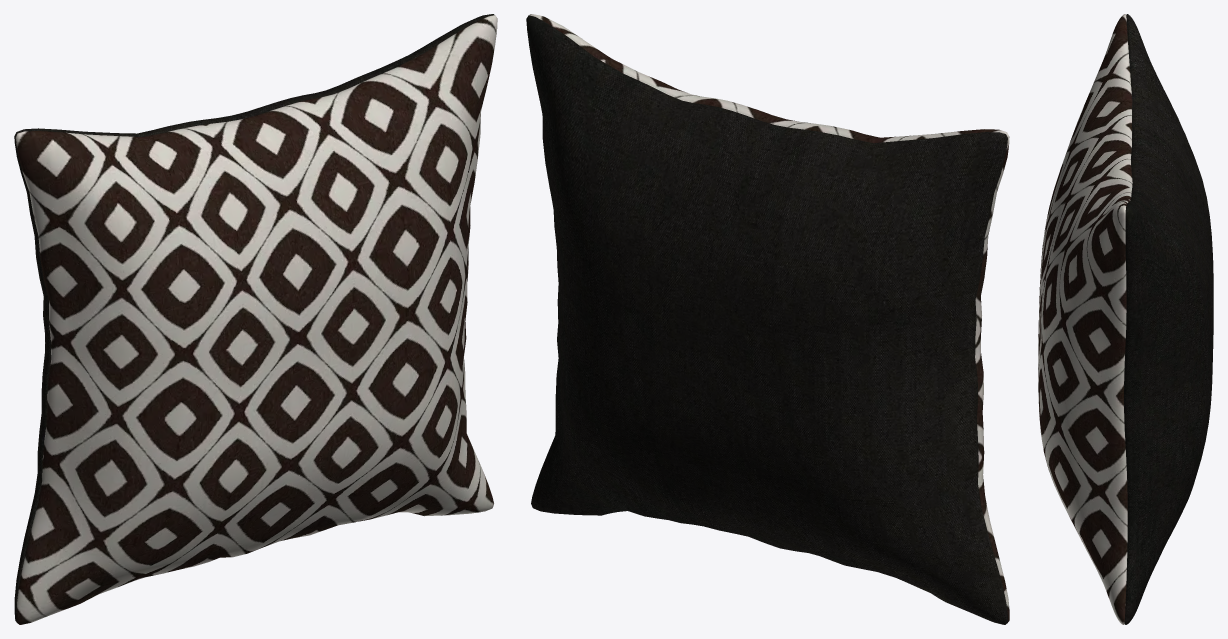
The picture shows the model from 3 angles, left to right: view 1: azimuth 30°, elevation 25°; view 2: azimuth 150°, elevation 25°; view 3: azimuth 270°, elevation 25°; orthographic projection. The views are drawn at different scales.
Parts seen in each view (by area): view 1: RootNode; view 2: RootNode; view 3: RootNode.
Boxes of the visible parts, x1,y1,x2,y2 form: RootNode: (14, 14, 497, 624); RootNode: (526, 14, 1009, 624); RootNode: (1038, 14, 1213, 624).
Size of the model in its own units: 0.5038 by 0.4939 by 0.1875.
Materials: 1 (1 with a texture image).
